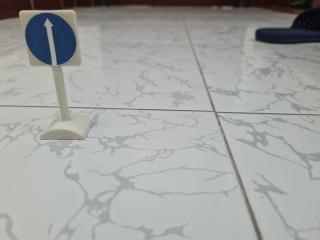straight: (16, 8, 86, 72)
